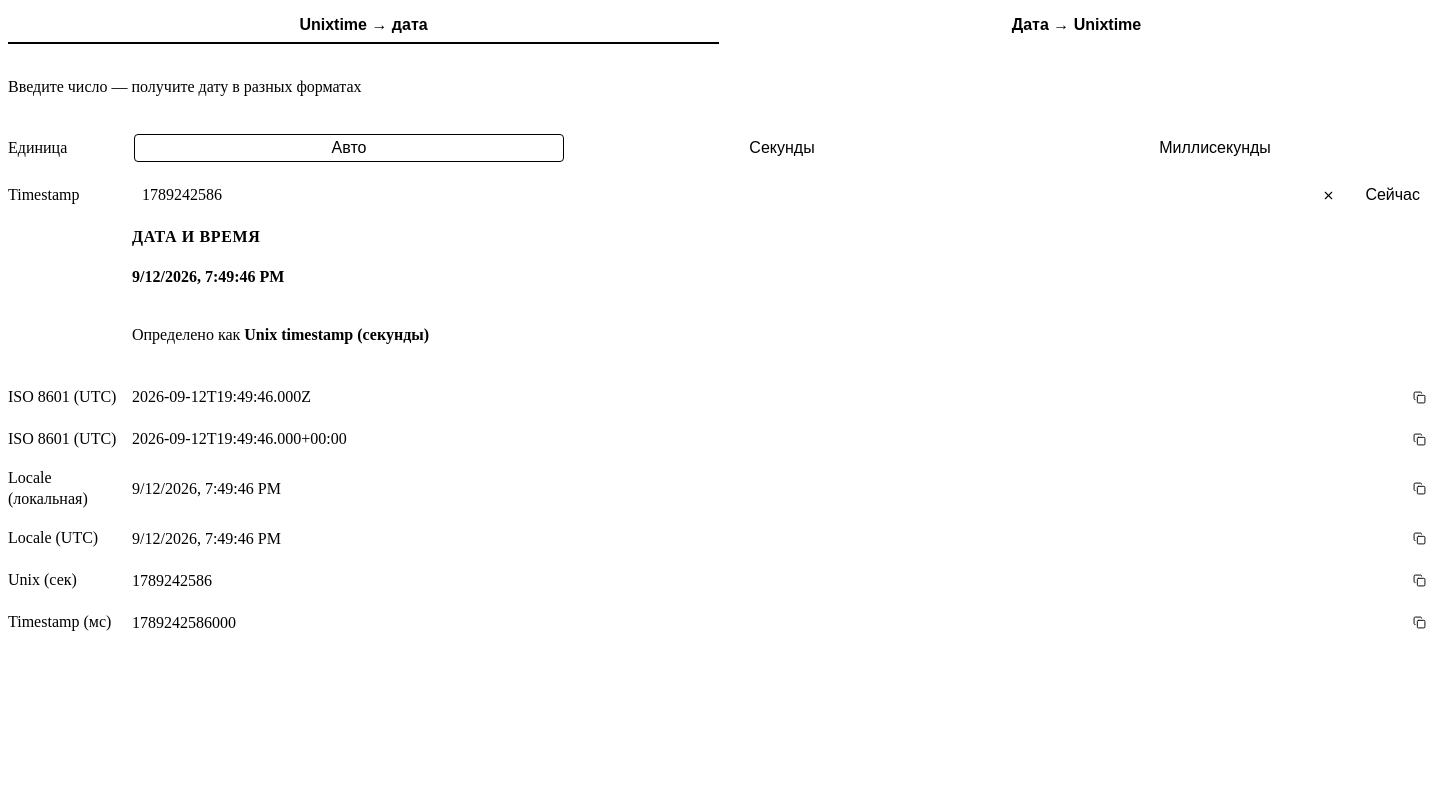
Test: UnixtimeConverter › миллисекундная метка распознаётся без переключения режима
The image size is (1440, 810).
Replace the text in the field named "Unix-время" with "1700000000000" at (761, 195), box [132,178,1389,212]
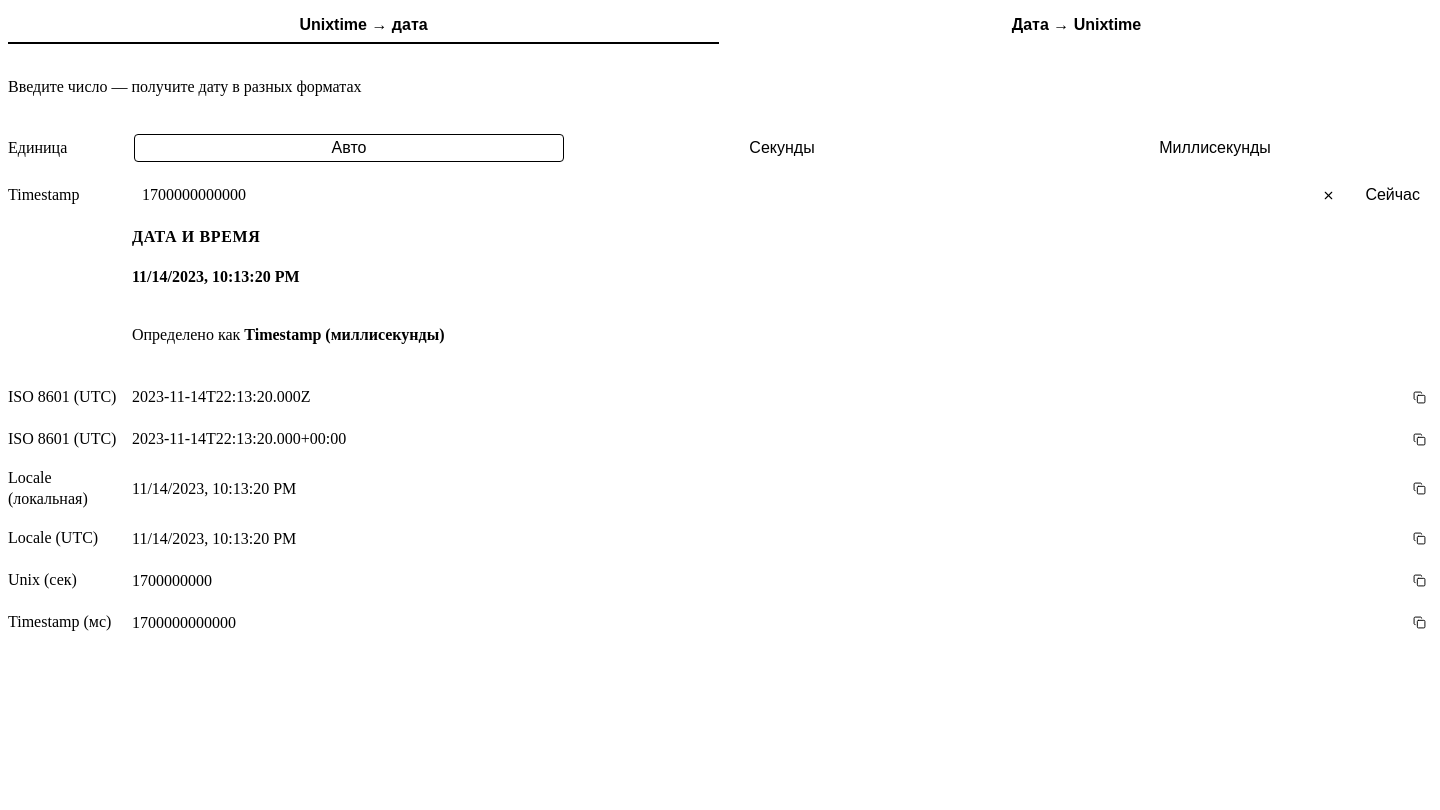
Expected: the text "Timestamp (миллисекунды)" is shown, [244,326,444,343]
Expected: the text "2023-11-14T22:13:20.000Z" is shown, [132,388,310,405]
